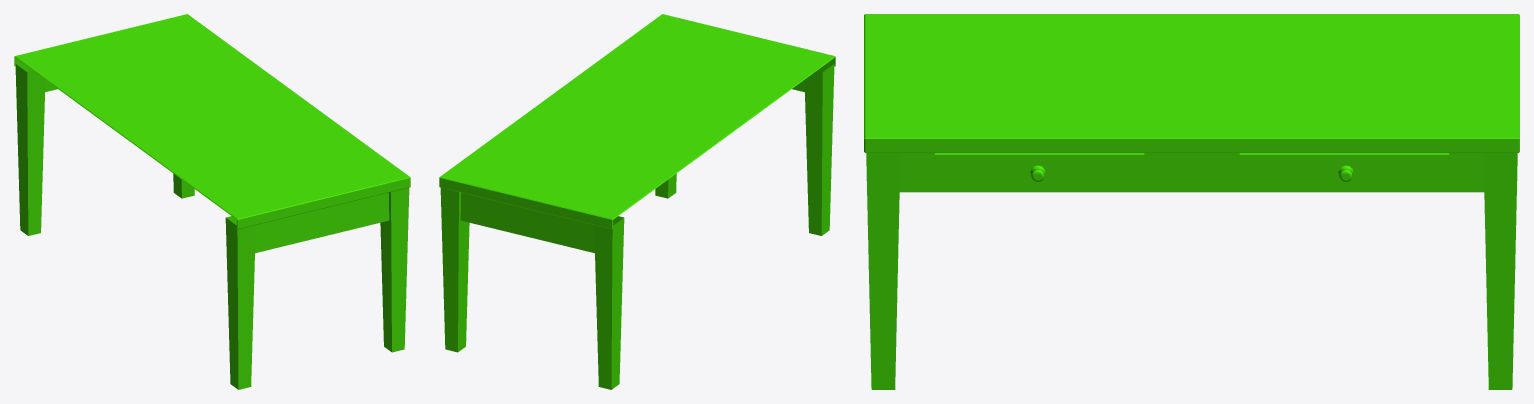
The model's file is G_Table_01.fbx.
3 views of the same model, side by side, from view 1: azimuth 30°, elevation 25°; view 2: azimuth 150°, elevation 25°; view 3: azimuth 270°, elevation 25° (orthographic). The views are drawn at different scales.
Visible parts, largest first — view 1: Table; view 2: Table; view 3: Table.
Part boxes in pixels (x1,y1,x2,y2): Table: (14,14,410,389); Table: (439,14,835,389); Table: (864,14,1519,389).
Size of the model in its own units: 1069 by 1002 by 2338.
